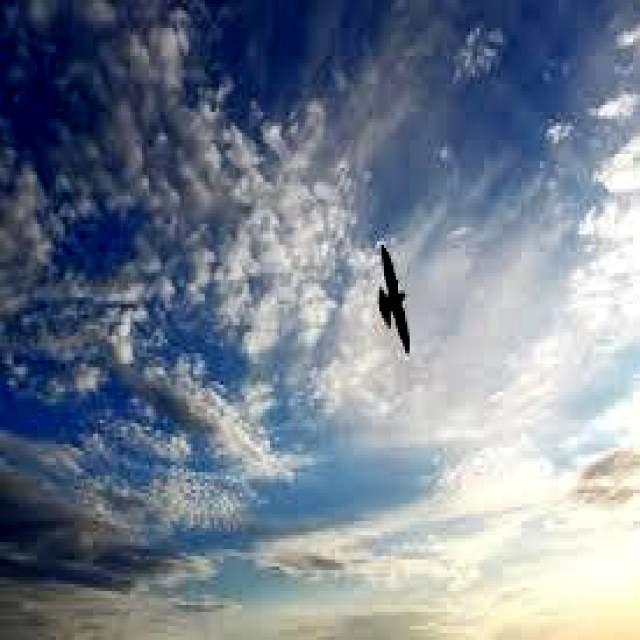bird: (378, 240, 416, 356)
